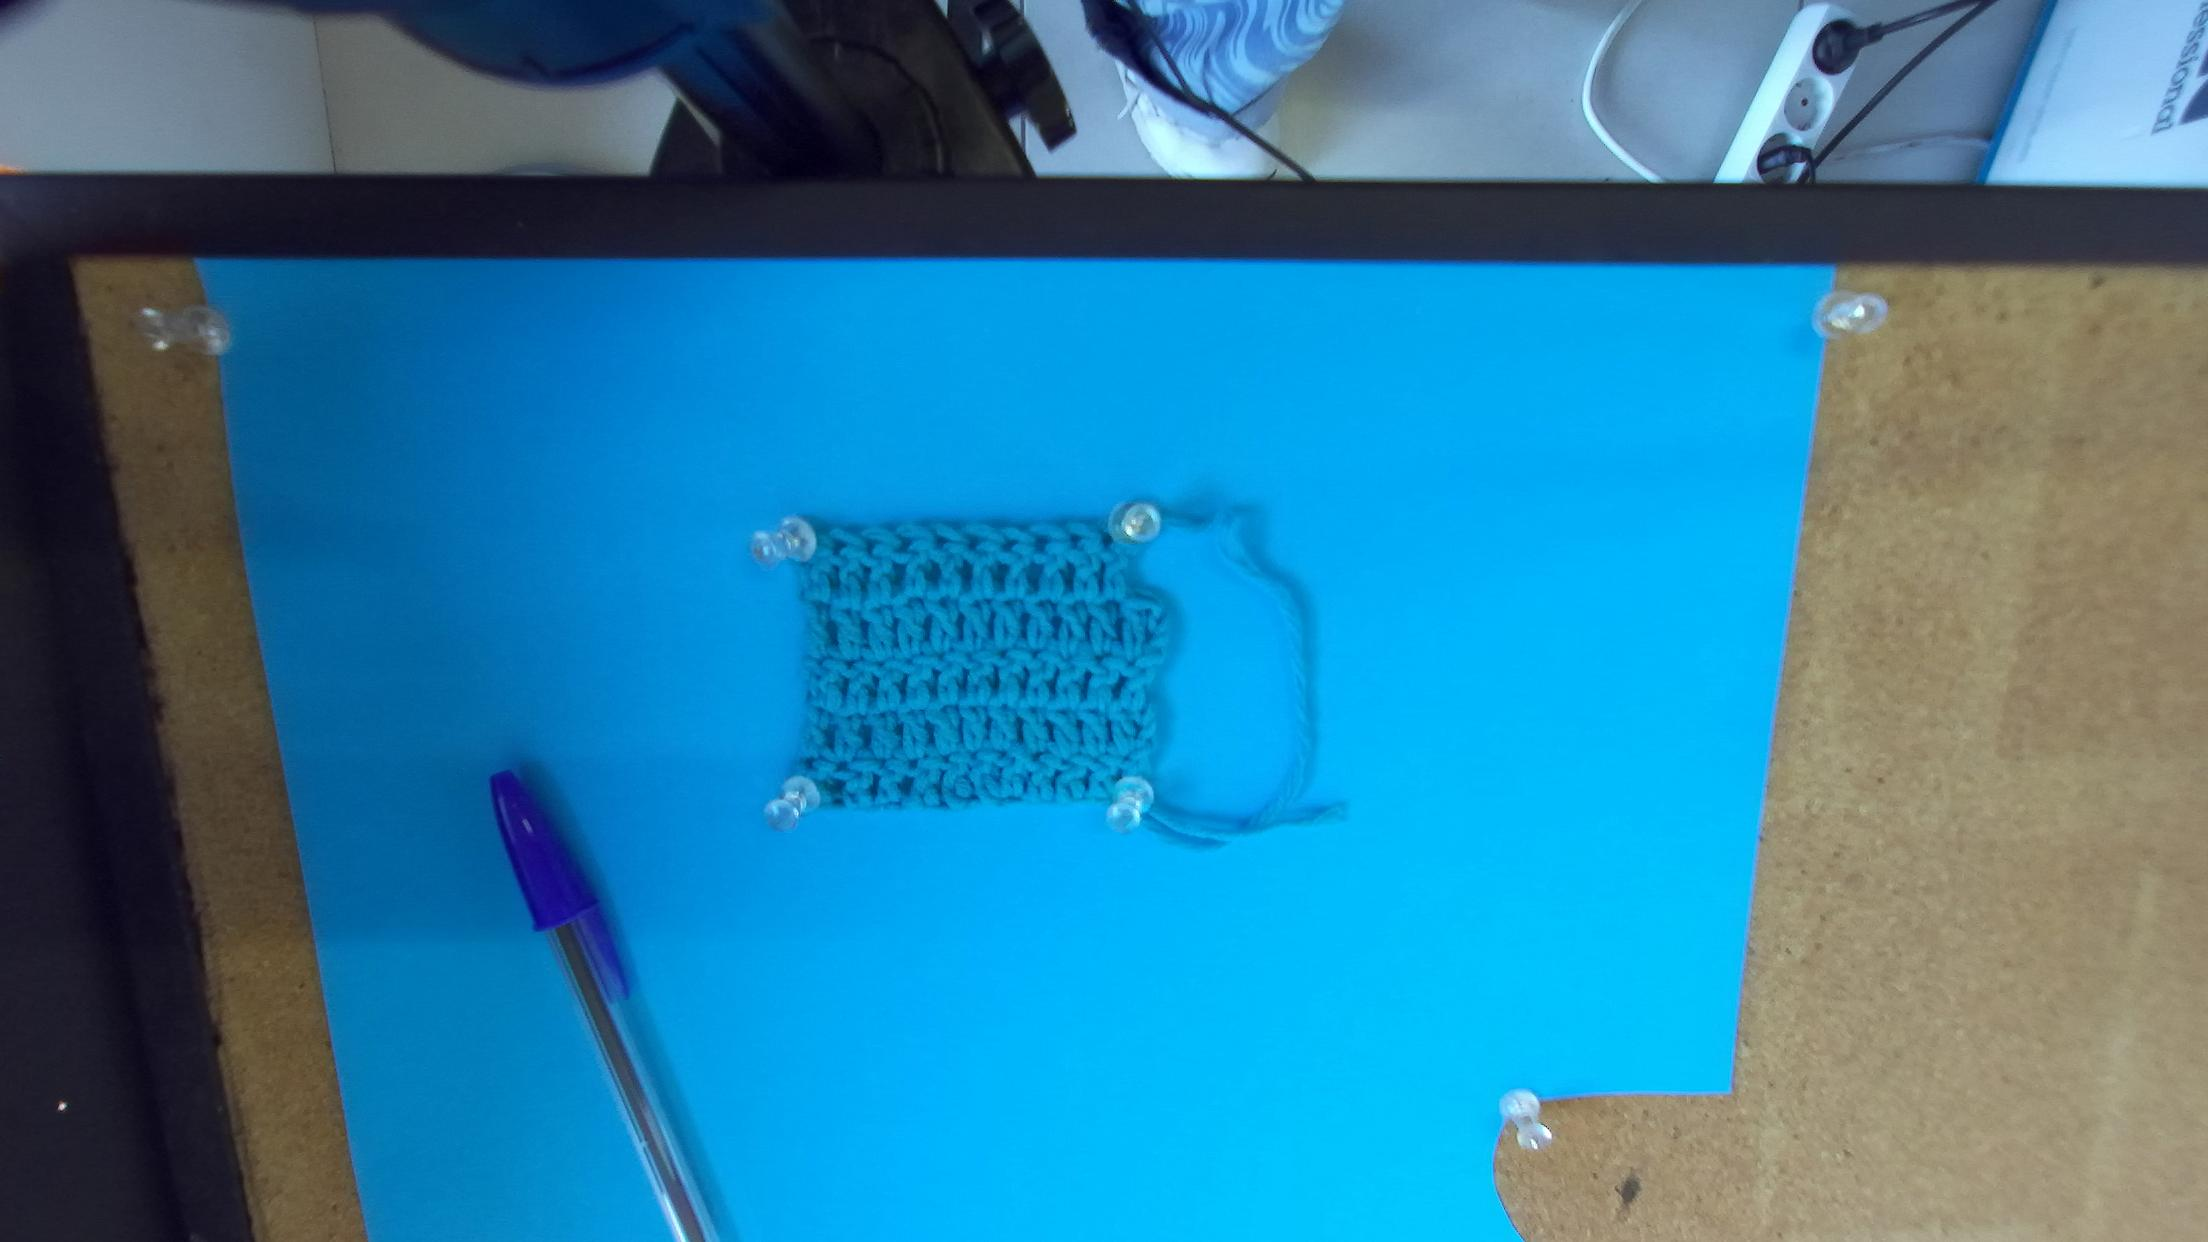hole: (893, 535, 916, 554), (963, 535, 987, 552), (830, 540, 848, 557), (864, 538, 881, 557), (998, 540, 1022, 552), (933, 535, 951, 550), (1098, 529, 1113, 546), (1033, 538, 1051, 552), (1069, 535, 1084, 549)
swatch: (787, 502, 1183, 817)
